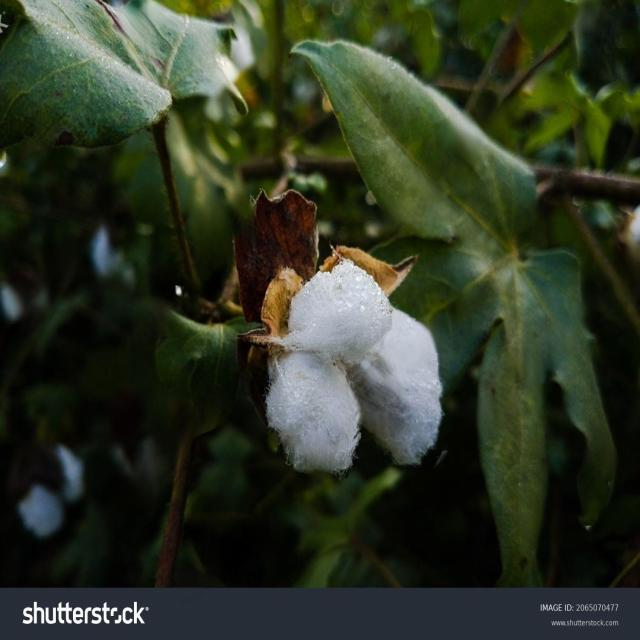Leaf: (227, 212, 463, 500)
